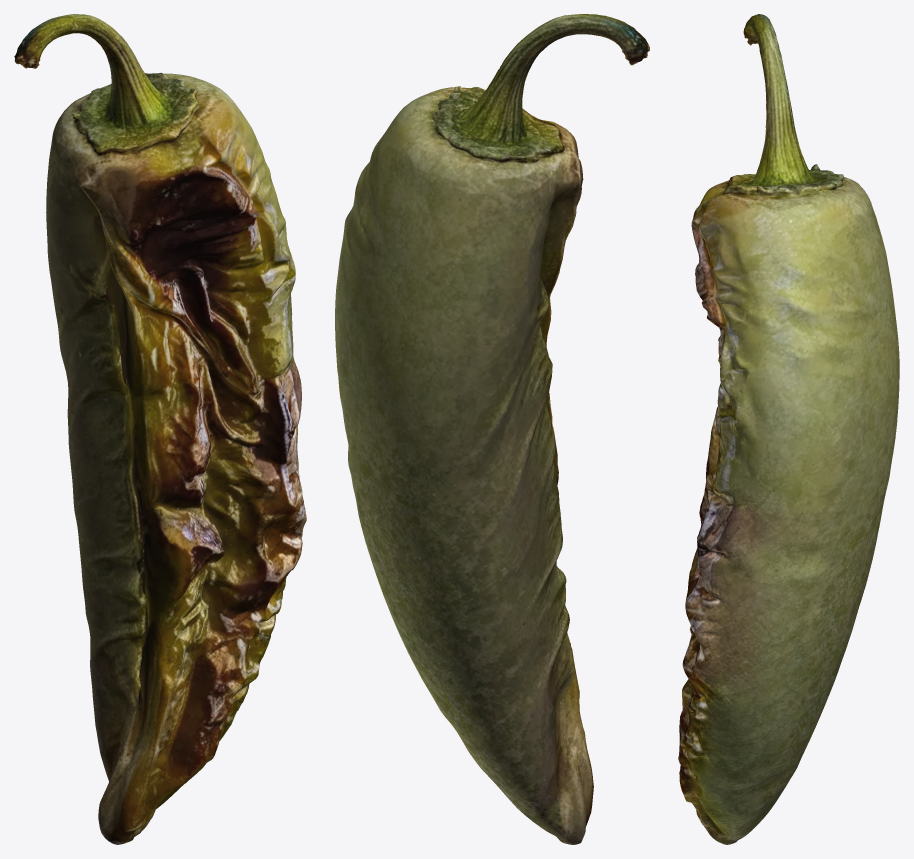
Rendered from chile.glb.
3 views of the same model, side by side, from view 1: azimuth 30°, elevation 25°; view 2: azimuth 150°, elevation 25°; view 3: azimuth 270°, elevation 25° (orthographic). The views are drawn at different scales.
Parts seen in each view (by area): view 1: geometry_0; view 2: geometry_0; view 3: geometry_0.
Boxes of the visible parts, x1,y1,x2,y2 form: geometry_0: (14,14,306,844); geometry_0: (335,14,649,844); geometry_0: (678,14,899,844).
Size of the model in its own units: 0.3497 by 0.98 by 0.2456.
1 material, 1 textured.
